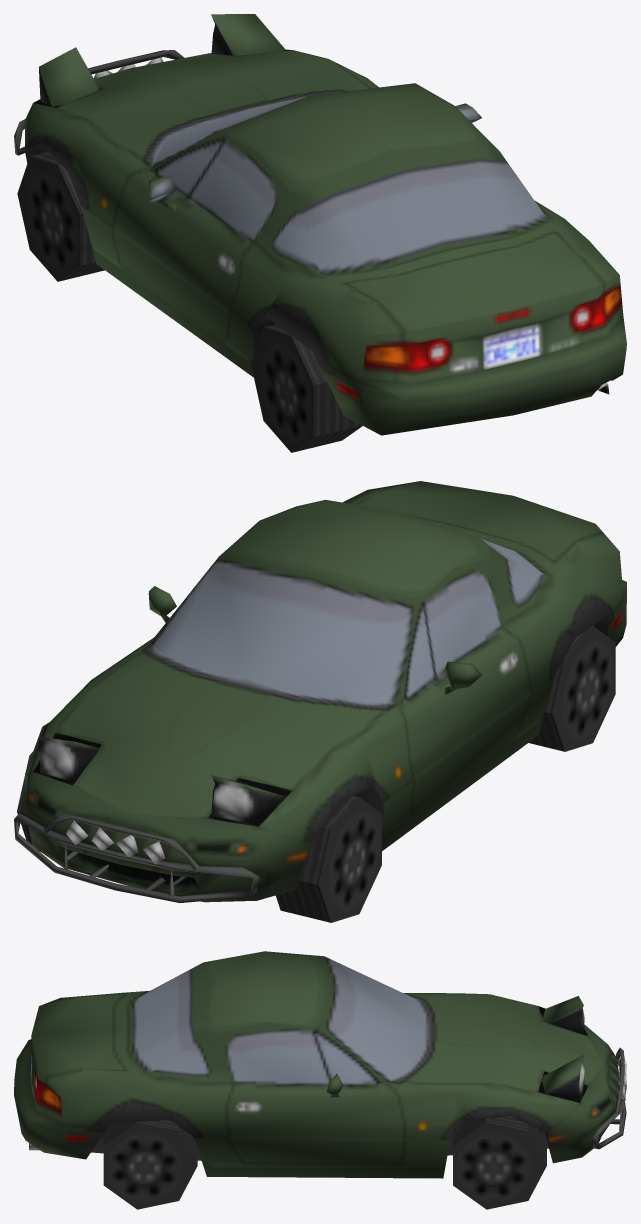
File: fhqDiecast18MiataOR.fbx
3 views of the same model, one above another, from view 1: azimuth 30°, elevation 25°; view 2: azimuth 150°, elevation 25°; view 3: azimuth 270°, elevation 25° (orthographic). The views are drawn at different scales.
Parts seen in each view (by area): view 1: fhqMX5NAOffroad; view 2: fhqMX5NAOffroad; view 3: fhqMX5NAOffroad.
Boxes of the visible parts, x1,y1,x2,y2 form: fhqMX5NAOffroad: [14, 14, 626, 452]; fhqMX5NAOffroad: [14, 481, 626, 922]; fhqMX5NAOffroad: [14, 951, 626, 1209].
Size of the model in its own units: 0.2262 by 0.1514 by 0.4815.
